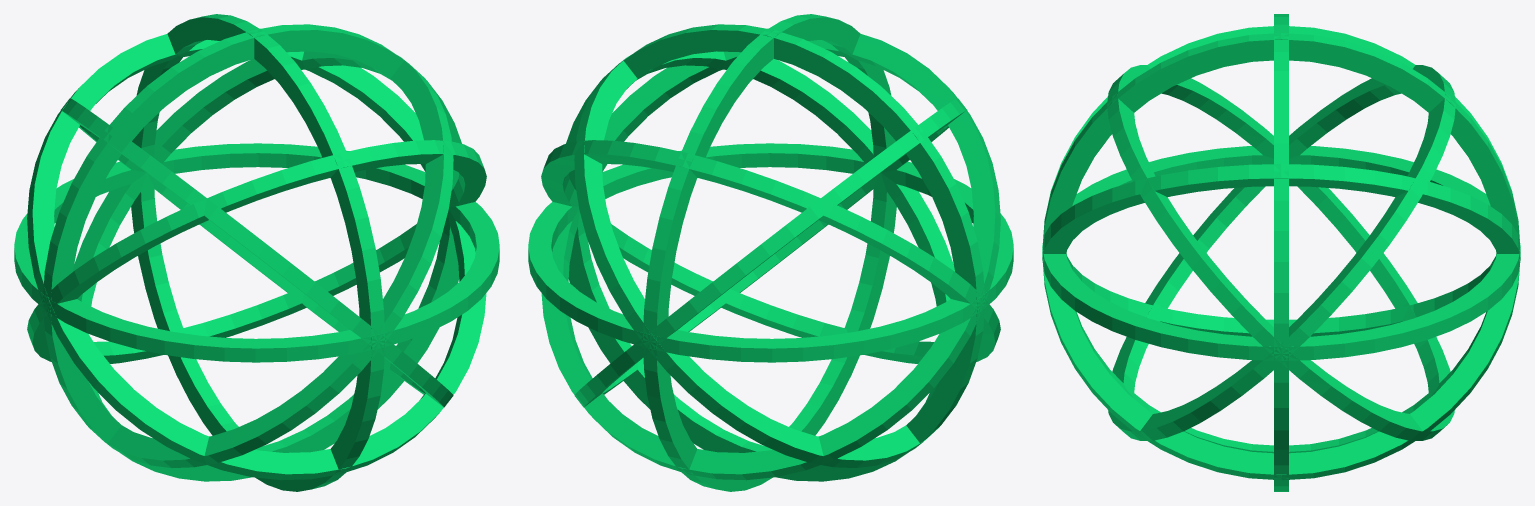
Rendered from green-globe.glb.
The picture shows the model from 3 angles, left to right: view 1: azimuth 30°, elevation 25°; view 2: azimuth 150°, elevation 25°; view 3: azimuth 270°, elevation 25°; orthographic projection.
Visible parts, largest first — view 1: path6; view 2: path6; view 3: path6.
Boxes of the visible parts, x1=… form: path6: x1=14, y1=14, x2=499, y2=491; path6: x1=528, y1=14, x2=1013, y2=491; path6: x1=1042, y1=14, x2=1520, y2=491.
Size of the model in its own units: 1.42 by 1.42 by 1.42.
